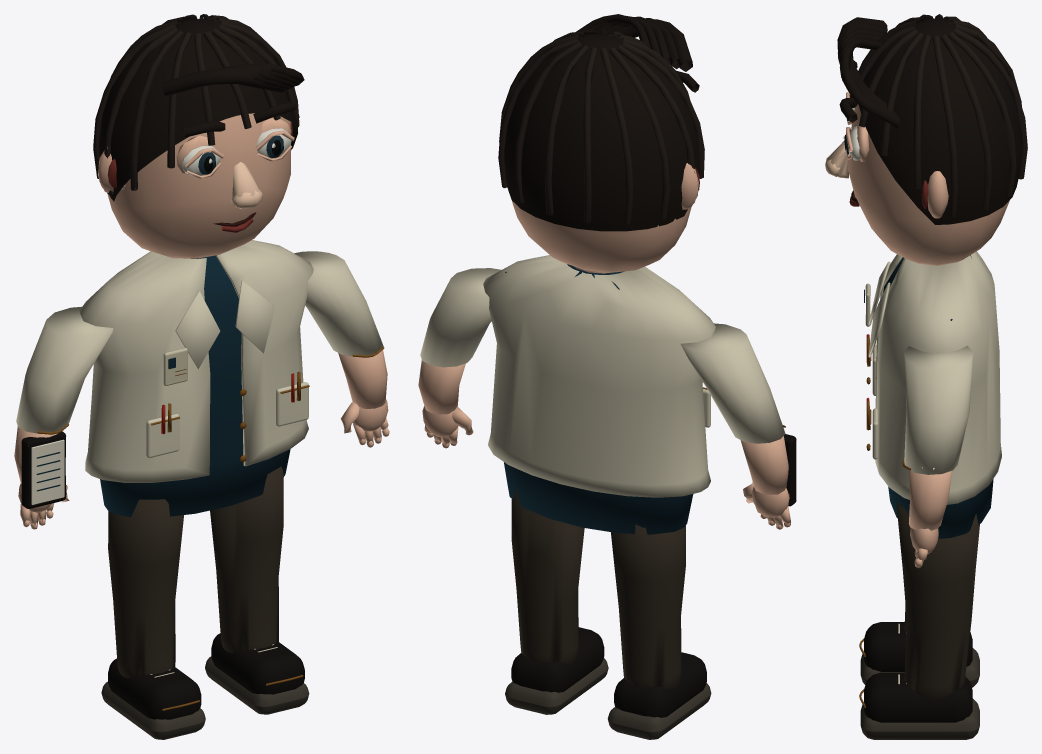
File: doctor-54.glb
The picture shows the model from 3 angles, left to right: view 1: azimuth 30°, elevation 25°; view 2: azimuth 150°, elevation 25°; view 3: azimuth 270°, elevation 25°; orthographic projection.
Visible parts, largest first — view 1: Body, Head, LegL, LegR, ArmL, ArmR; view 2: Body, Head, LegL, LegR, ArmL, ArmR; view 3: Head, Body, LegR, ArmR, LegL.
Part boxes in pixels (bbox=[...]): Body: bbox=[79, 240, 313, 517]; Head: bbox=[93, 14, 304, 258]; LegL: bbox=[101, 499, 205, 739]; LegR: bbox=[205, 466, 309, 714]; ArmL: bbox=[14, 306, 113, 529]; ArmR: bbox=[294, 251, 389, 447]; Body: bbox=[483, 255, 715, 534]; Head: bbox=[498, 14, 704, 272]; LegL: bbox=[607, 524, 711, 739]; LegR: bbox=[505, 489, 608, 714]; ArmL: bbox=[680, 323, 796, 529]; ArmR: bbox=[418, 268, 501, 448]; Head: bbox=[825, 14, 1027, 265]; Body: bbox=[864, 251, 1001, 538]; LegR: bbox=[859, 501, 979, 739]; ArmR: bbox=[902, 345, 973, 568]; LegL: bbox=[859, 604, 979, 687].
Size of the model in its own units: 0.8134 by 1.43 by 0.3851.
